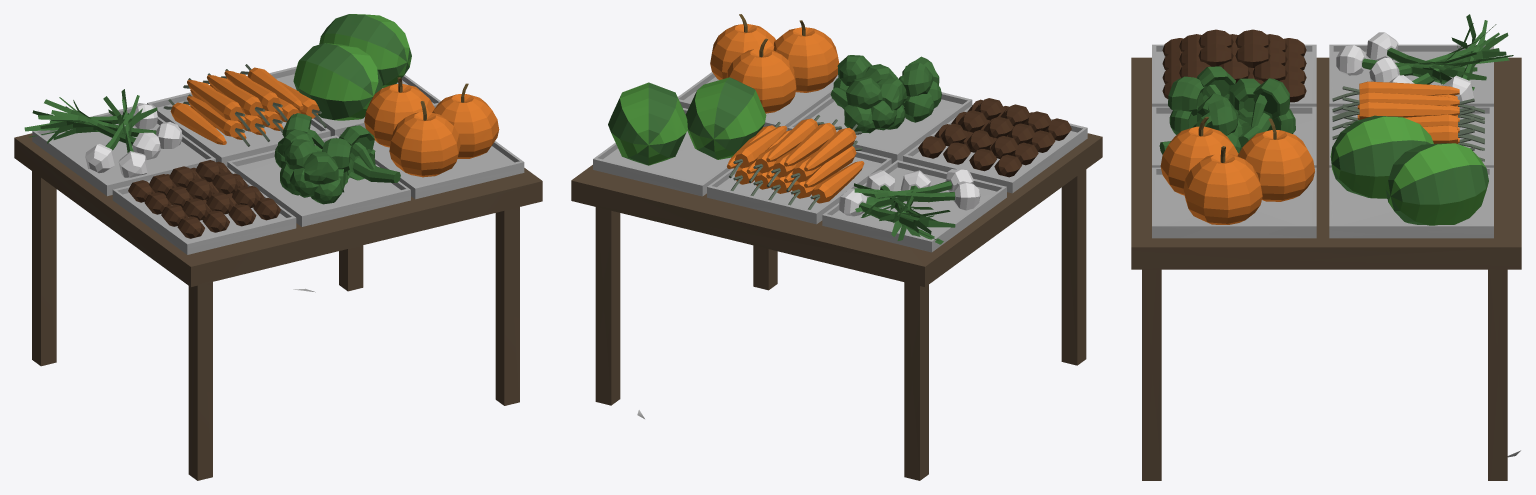
Rendered from SM_fruitTable_03.glb.
3 views of the same model, side by side, from view 1: azimuth 30°, elevation 25°; view 2: azimuth 150°, elevation 25°; view 3: azimuth 270°, elevation 25° (orthographic). The views are drawn at different scales.
Parts seen in each view (by area): view 1: SM_fruitTable_03; view 2: SM_fruitTable_03; view 3: SM_fruitTable_03.
Part boxes in pixels (bbox=[...]): SM_fruitTable_03: bbox=[14, 14, 542, 480]; SM_fruitTable_03: bbox=[571, 14, 1102, 480]; SM_fruitTable_03: bbox=[1131, 14, 1521, 480].
Size of the model in its own units: 1.15 by 0.9244 by 0.9969.
Materials: 1 (1 with a texture image).
